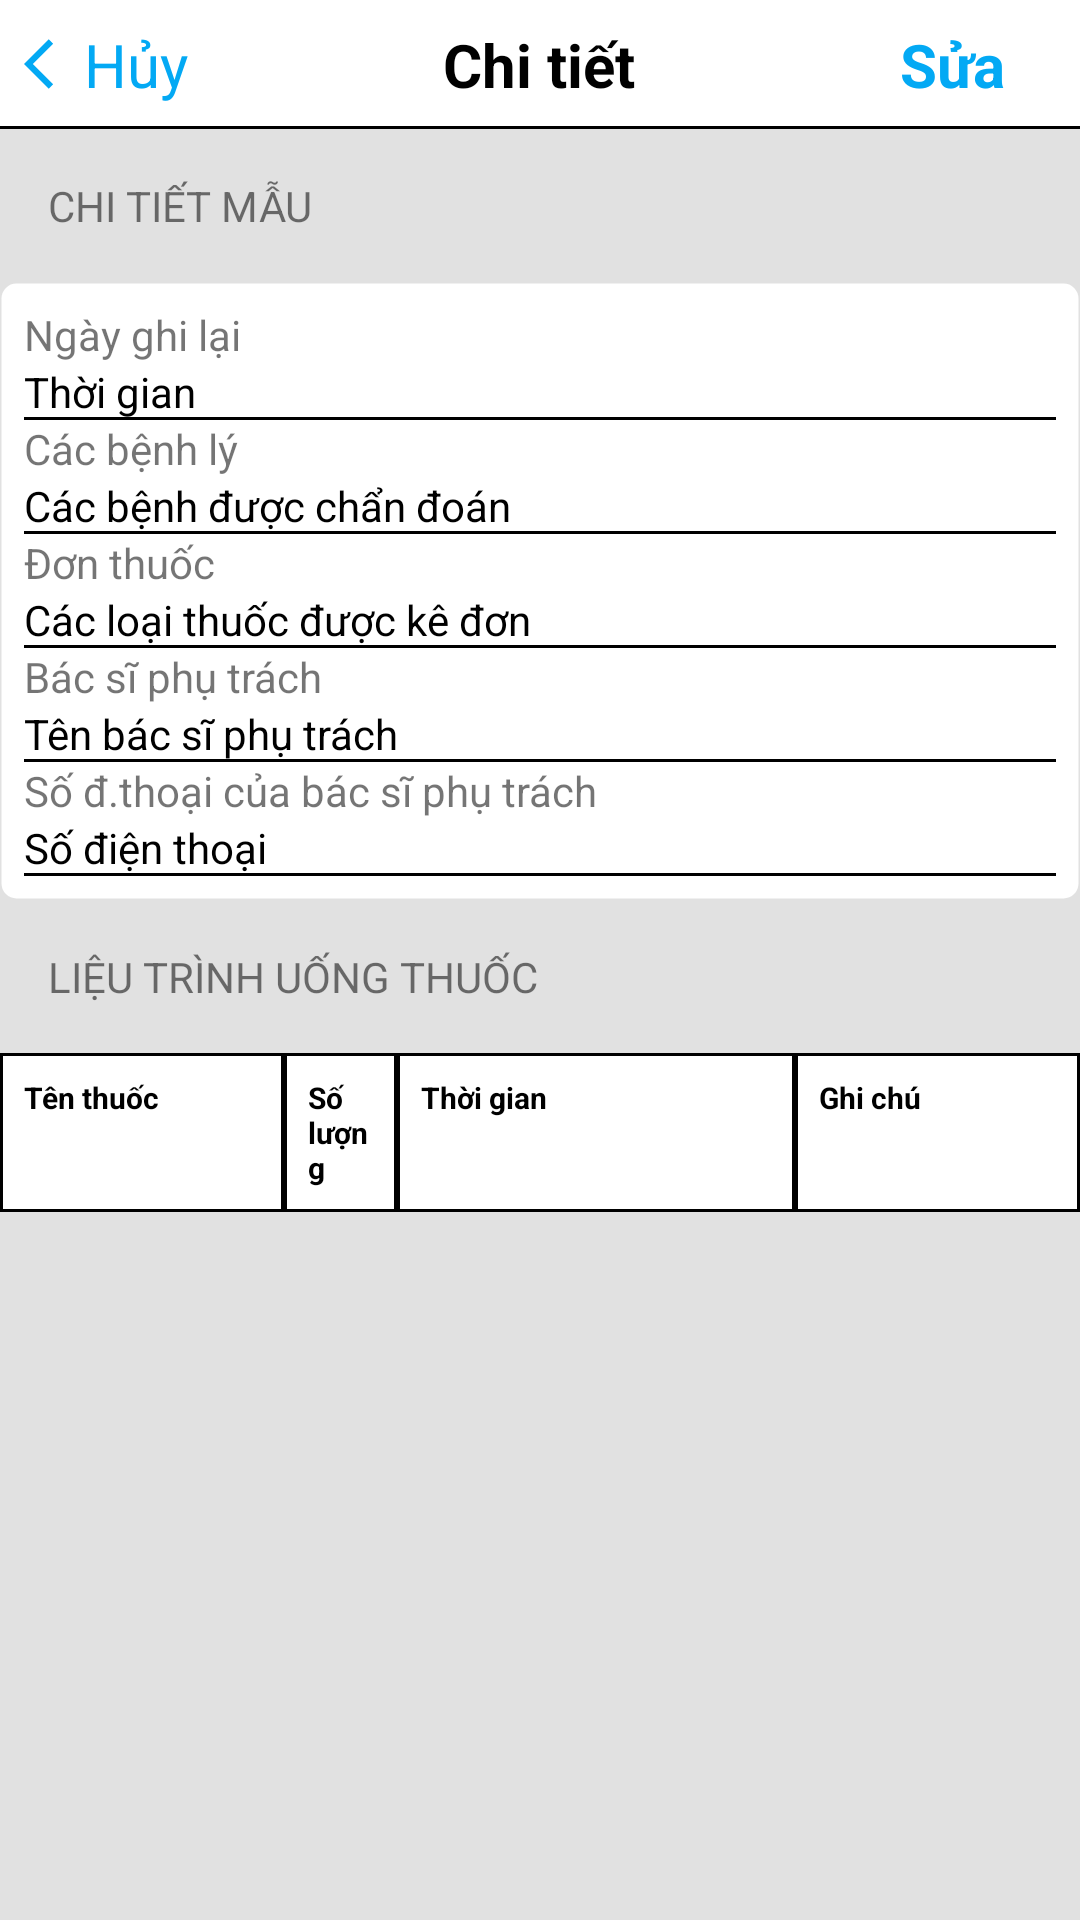

Screen size 1080 x 1920. Icon name, then its center in pixels as point (x, y):
arrow back: point (38, 64)
